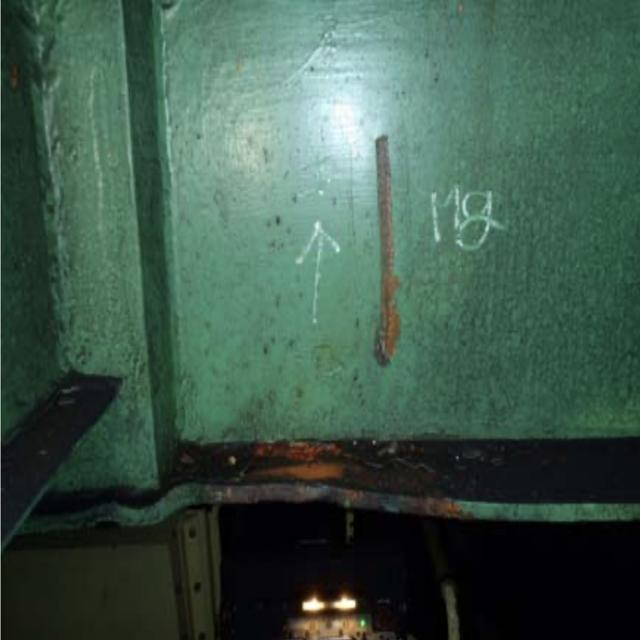corrosion: (169, 414, 457, 536)
